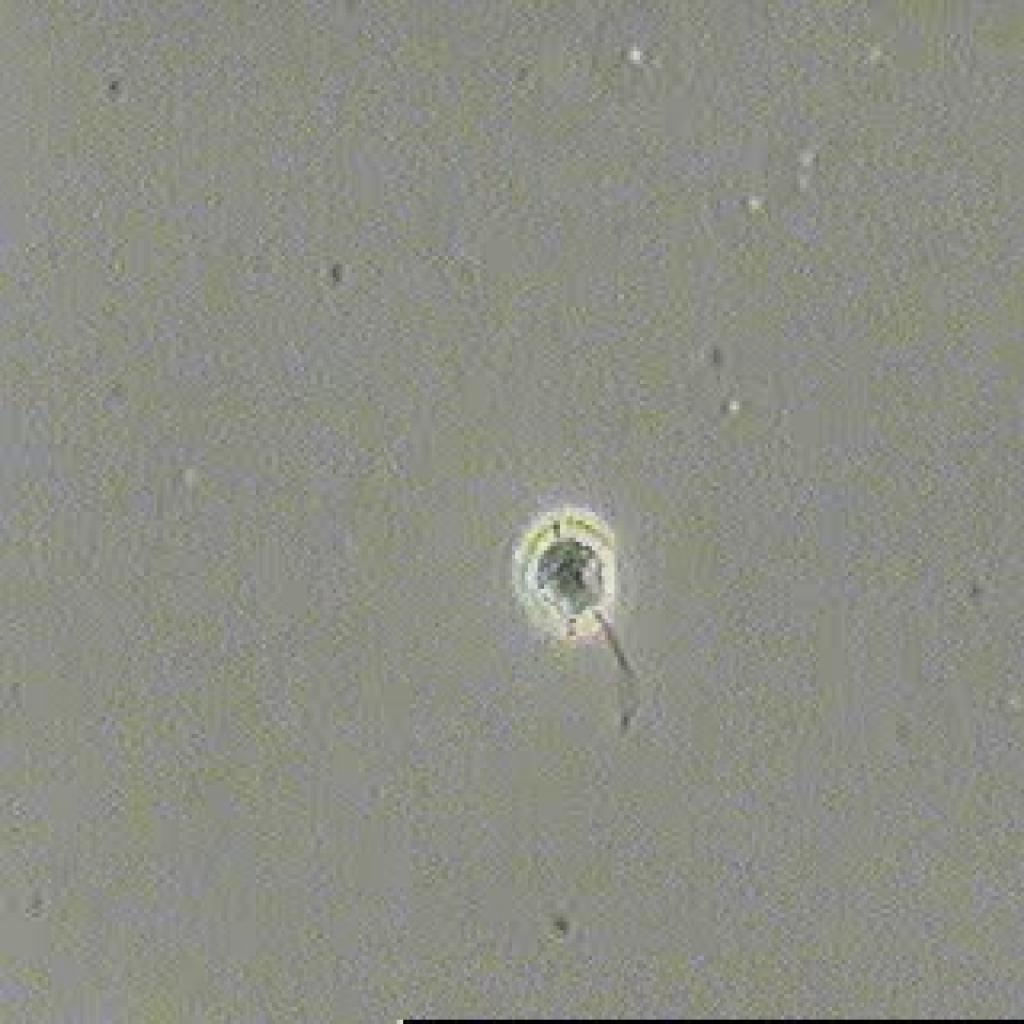Flagellates: (492, 478, 686, 764)
